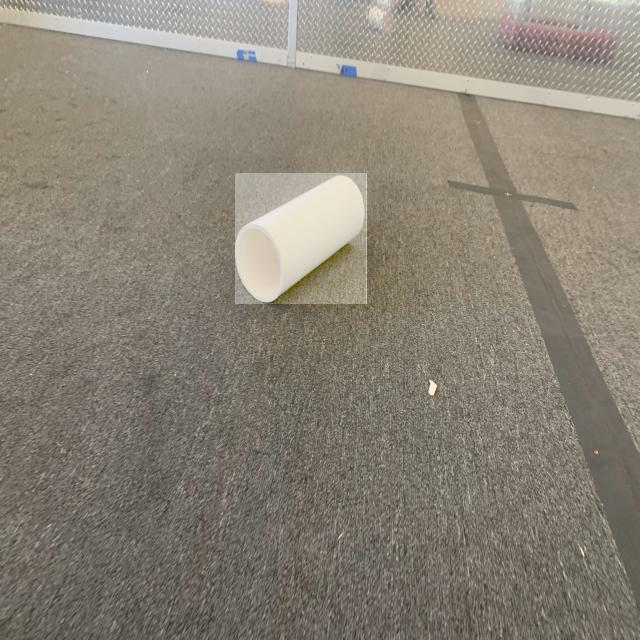Coral: (235, 173, 368, 304)
